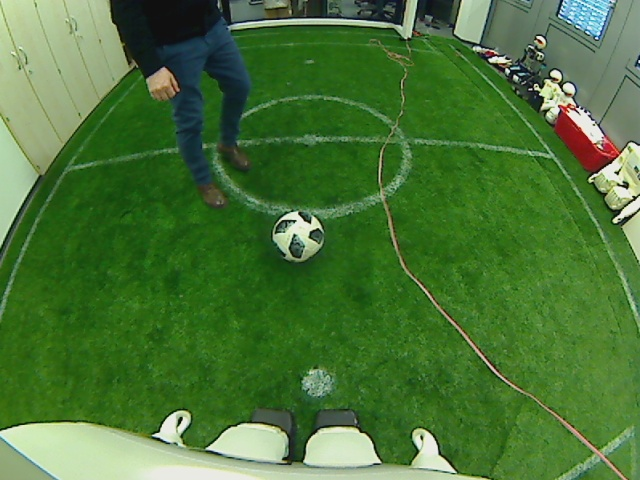ball: (272, 209, 326, 261)
